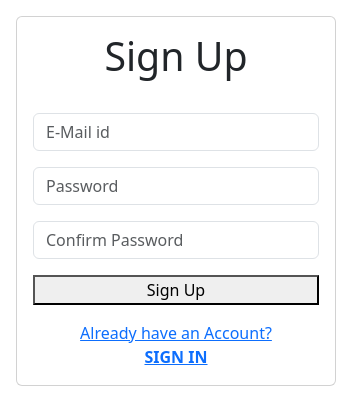
Test: SignUp Component › submit button disables during loading
Type "test@test.com" into the field with placeholder "E-Mail id" at (176, 132), box [33, 113, 319, 151]
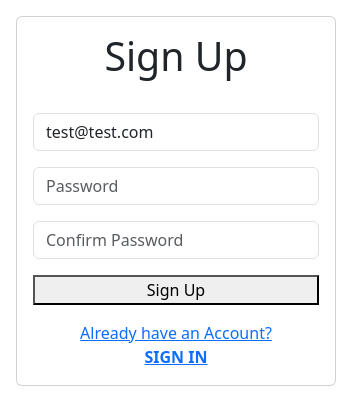
Type "123456" into the password field with placeholder "Password" at (176, 186), box [33, 167, 319, 205]
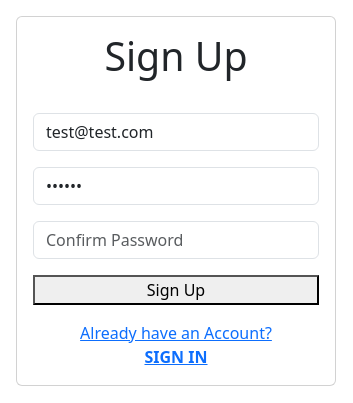
Type "123456" into the password field with placeholder "Confirm Password" at (176, 240), box [33, 221, 319, 259]
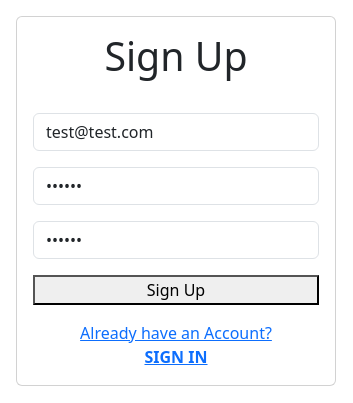
Click the button "Sign Up" at (176, 290), box [33, 275, 319, 305]
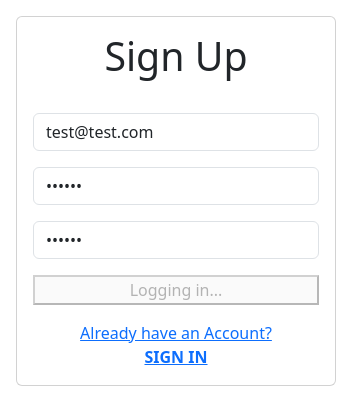
Check: the button "Logging in..." is disabled, box [33, 275, 319, 305]
